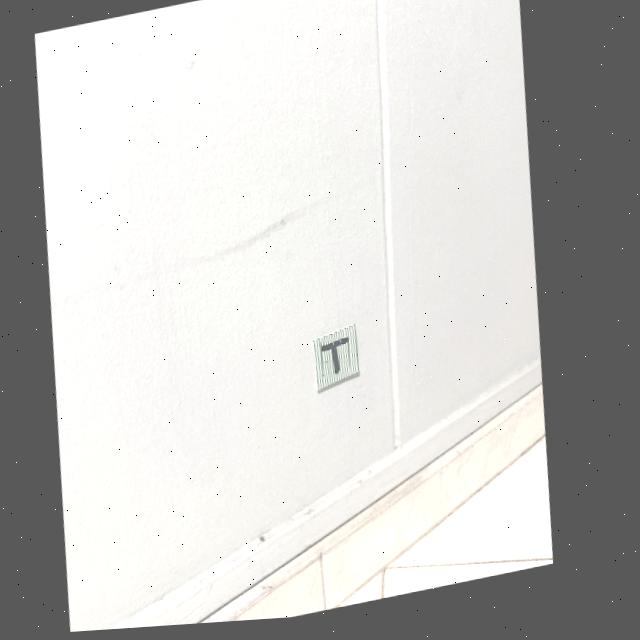T: (329, 342, 355, 379)
